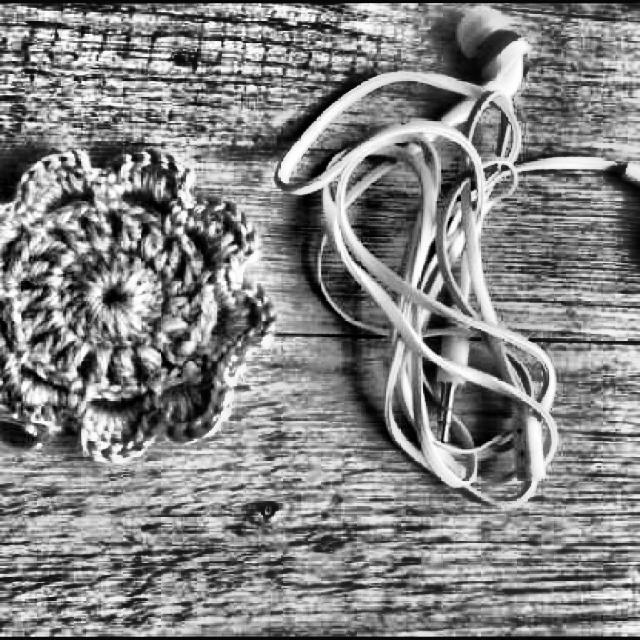Cable: (275, 5, 640, 508)
